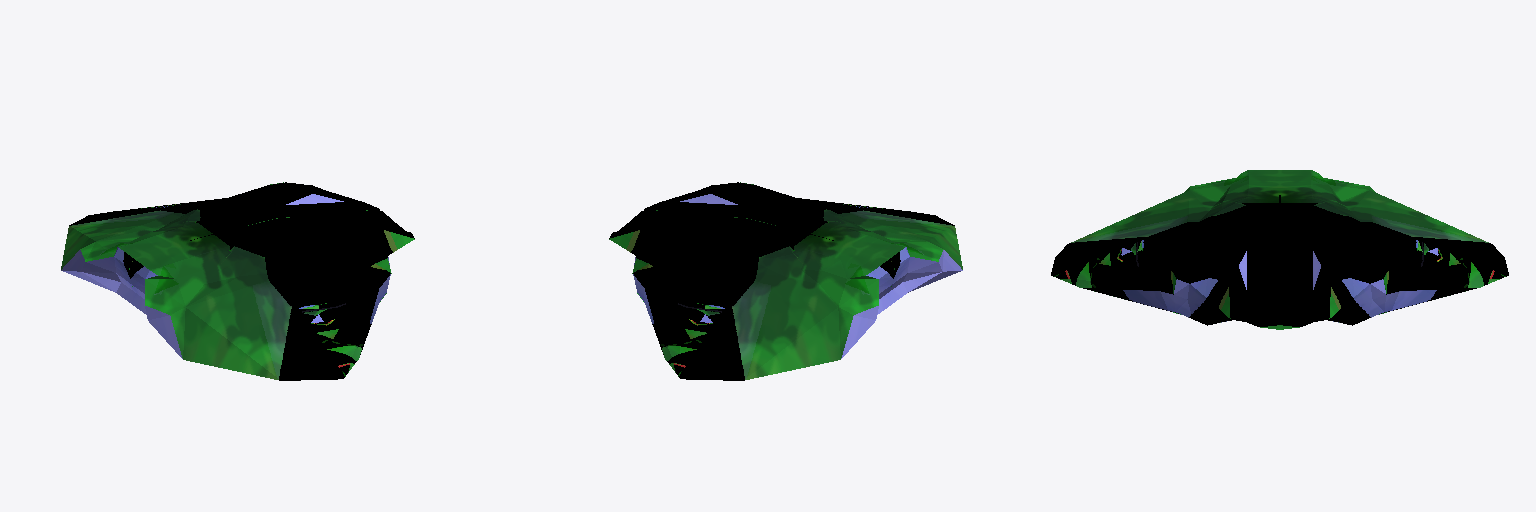
3 renders of one model, left to right at view 1: azimuth 30°, elevation 25°; view 2: azimuth 150°, elevation 25°; view 3: azimuth 270°, elevation 25°, orthographic.
Visible parts, largest first — view 1: manta_Cube; view 2: manta_Cube; view 3: manta_Cube.
Boxes of the visible parts, x1,y1,x2,y2 form: manta_Cube: [61, 182, 414, 380]; manta_Cube: [609, 182, 962, 380]; manta_Cube: [1051, 170, 1508, 329].
Bounding box in the file's own units: 8.29 × 1.83 × 11.64.
Materials: 1 (1 with a texture image).